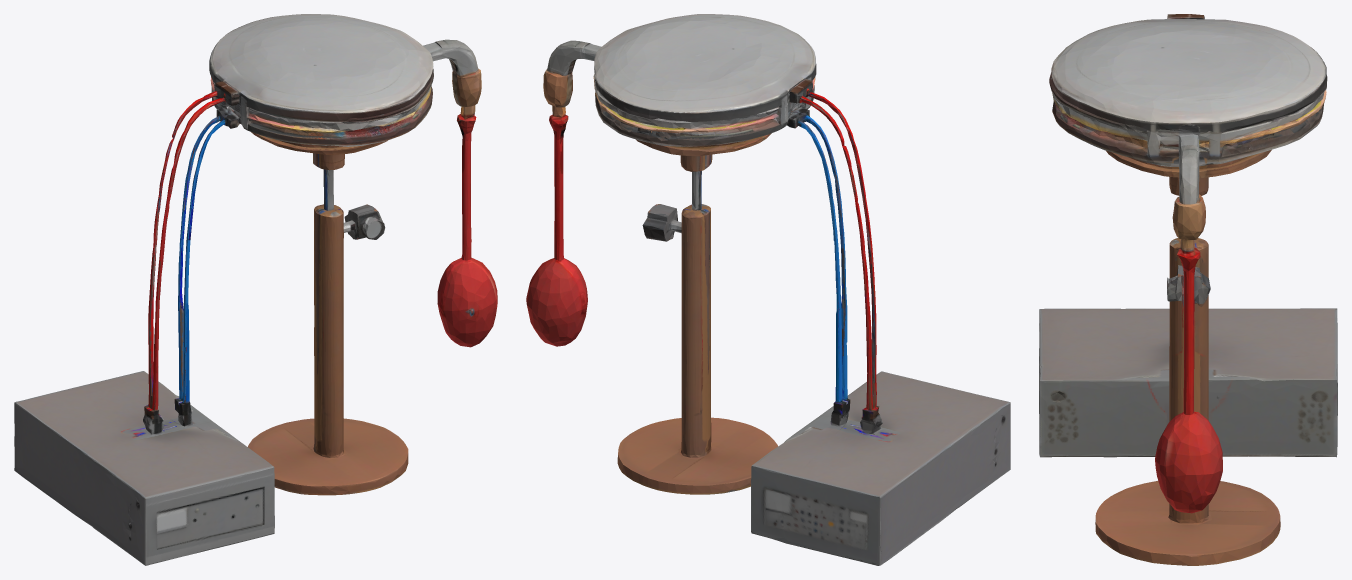
File: Millikan_Experiment_A_0610061936_texture.fbx
The picture shows the model from 3 angles, left to right: view 1: azimuth 30°, elevation 25°; view 2: azimuth 150°, elevation 25°; view 3: azimuth 270°, elevation 25°; orthographic projection. The views are drawn at different scales.
Parts seen in each view (by area): view 1: temp; view 2: temp; view 3: temp.
Boxes of the visible parts, x1=… form: temp: x1=14, y1=14, x2=497, y2=565; temp: x1=526, y1=14, x2=1010, y2=565; temp: x1=1039, y1=14, x2=1337, y2=565.
Size of the model in its own units: 200 by 189 by 110.
1 material, 1 textured.
